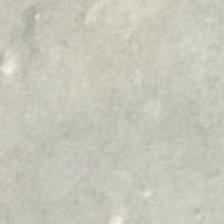Non_Crack: (22, 28, 214, 192)
